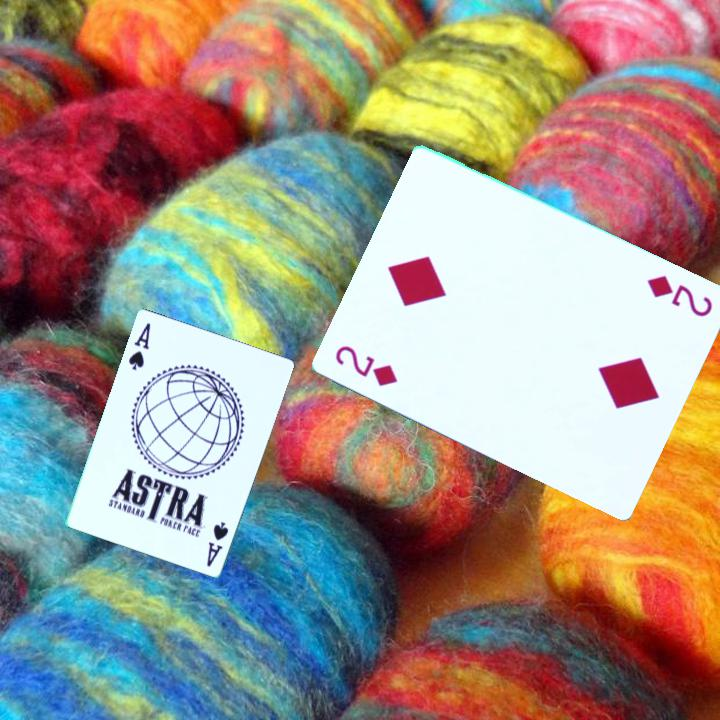2d: (644, 271, 716, 320), (332, 341, 401, 389)
As: (125, 319, 153, 371), (203, 518, 231, 570)
